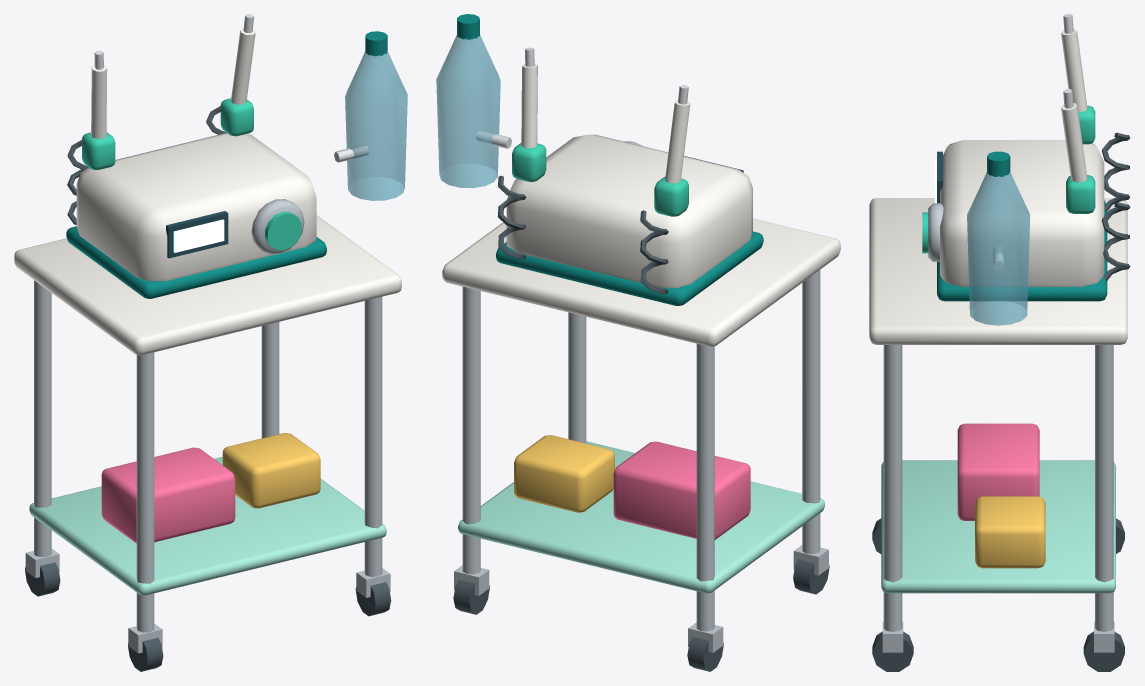
Rendered from ultrasonic_cart.glb.
The picture shows the model from 3 angles, left to right: view 1: azimuth 30°, elevation 25°; view 2: azimuth 150°, elevation 25°; view 3: azimuth 270°, elevation 25°; orthographic projection. The views are drawn at different scales.
Visible parts, largest first — view 1: UltrasonicCart; view 2: UltrasonicCart; view 3: UltrasonicCart.
Part boxes in pixels (bbox=[...]): UltrasonicCart: bbox=[14, 14, 407, 671]; UltrasonicCart: bbox=[436, 14, 840, 671]; UltrasonicCart: bbox=[869, 14, 1130, 671].
Size of the model in its own units: 0.665 by 1.05 by 0.4447.
